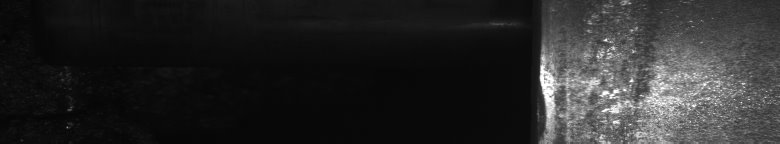kb: (548, 4, 776, 136)
